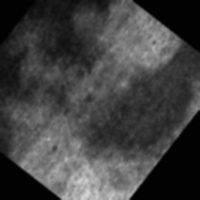patches: (68, 19, 200, 183), (13, 0, 126, 73), (0, 37, 65, 156)
